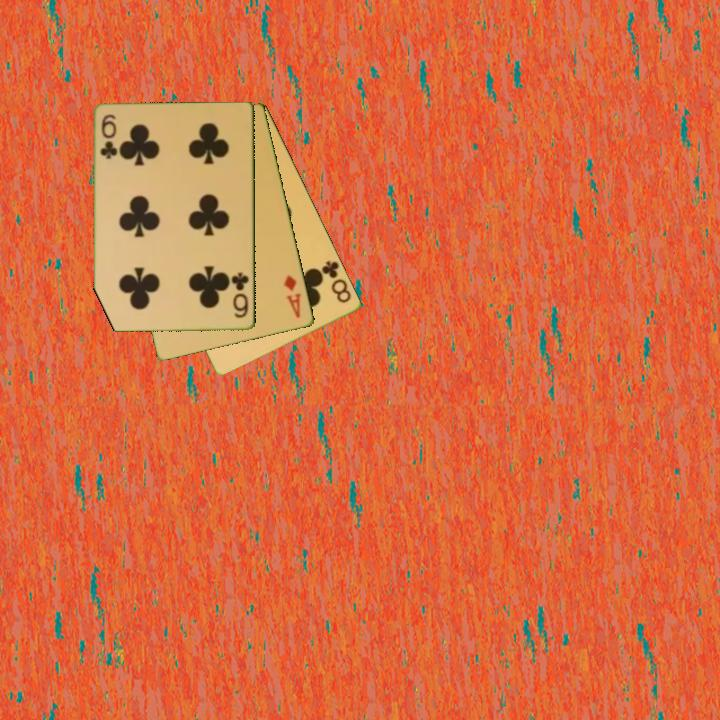6c: (229, 270, 252, 320), (97, 111, 119, 162)
8c: (316, 257, 355, 306)
Ad: (281, 271, 304, 321)
